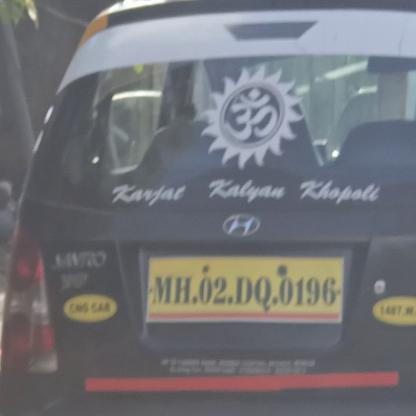license_plate: (147, 255, 343, 324)
